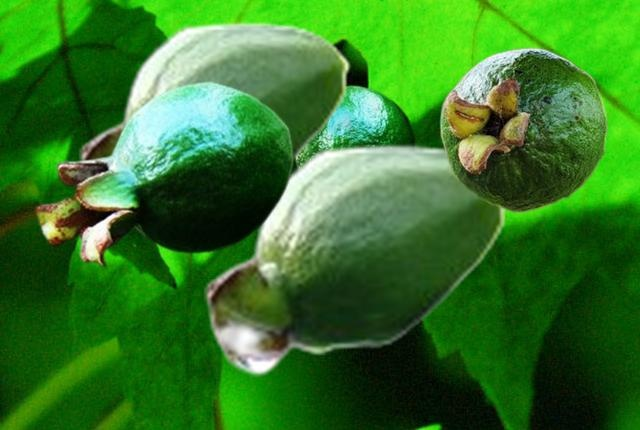guava: (204, 142, 509, 376), (34, 80, 293, 267), (79, 20, 350, 166), (439, 47, 607, 212), (294, 84, 415, 165)
